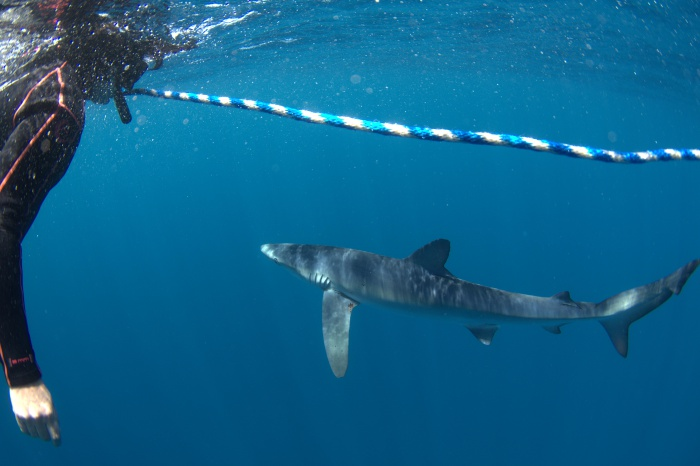Azul: (248, 224, 700, 387)
